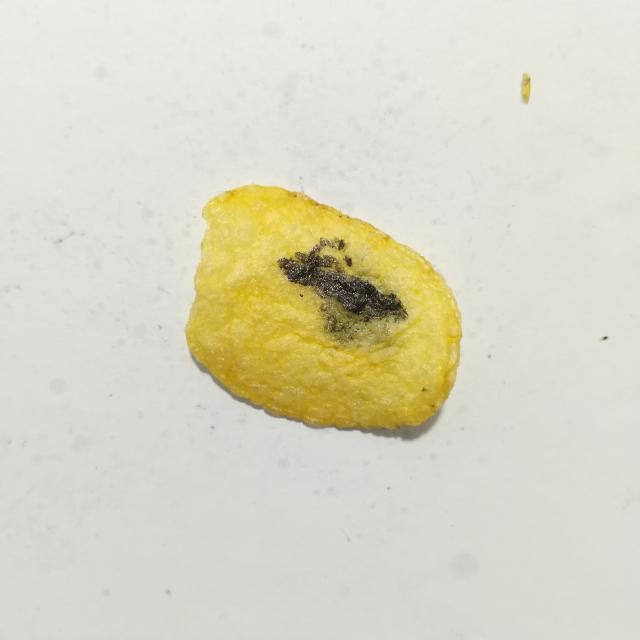chip: (185, 185, 462, 428)
damaged: (278, 237, 407, 323), (345, 256, 352, 266), (299, 294, 303, 297)
semi-damaged: (321, 298, 400, 347), (358, 271, 395, 294)
